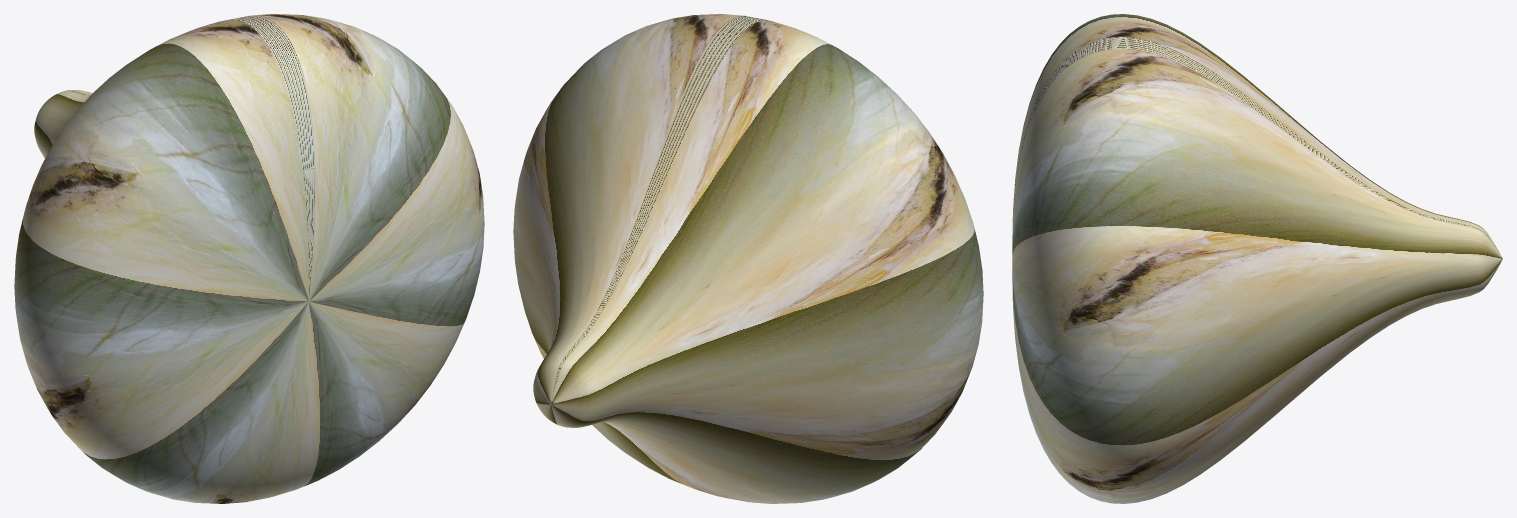
Rendered from custom_onion_bad_real_blemish.dae.
The picture shows the model from 3 angles, left to right: view 1: azimuth 30°, elevation 25°; view 2: azimuth 150°, elevation 25°; view 3: azimuth 270°, elevation 25°; orthographic projection. The views are drawn at different scales.
Parts seen in each view (by area): view 1: new_custom_onion; view 2: new_custom_onion; view 3: new_custom_onion.
Boxes of the visible parts, x1,y1,x2,y2 form: new_custom_onion: (14, 14, 484, 503); new_custom_onion: (513, 14, 983, 503); new_custom_onion: (1012, 14, 1502, 503).
Size of the model in its own units: 0.0902 by 0.0903 by 0.0902.
1 material, 1 textured.
